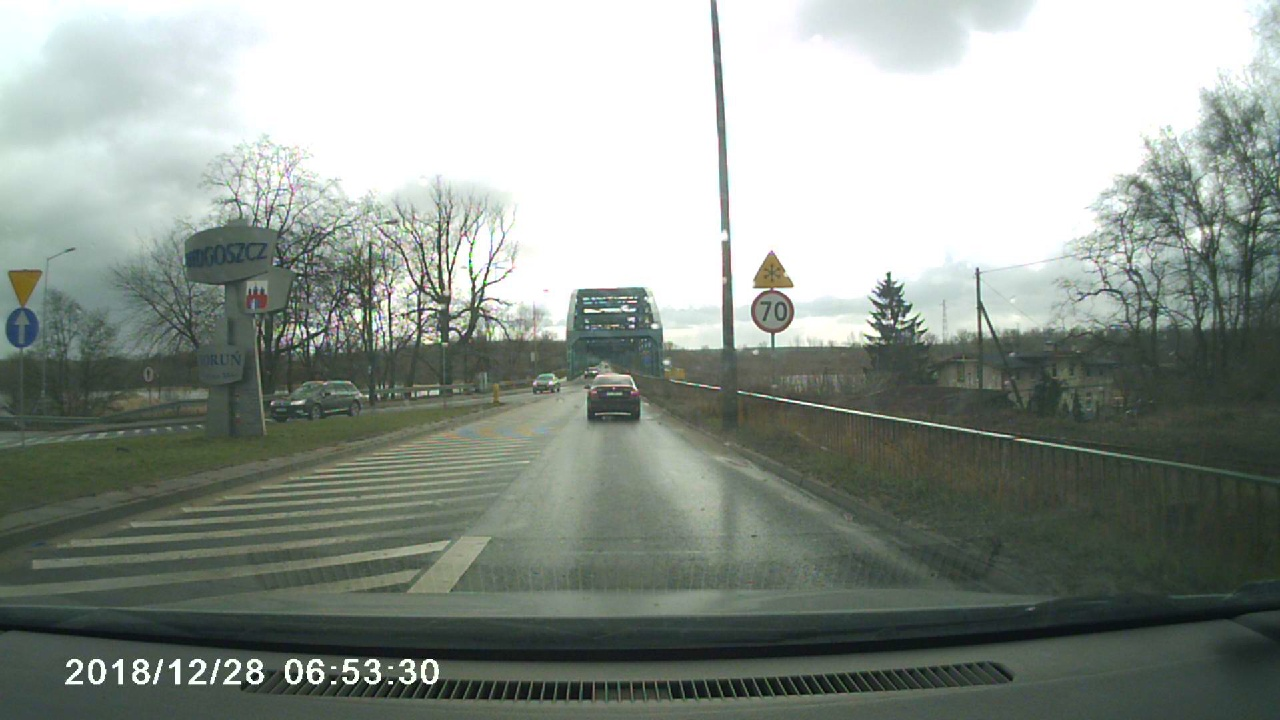A32: (745, 246, 797, 291)
A7: (5, 268, 46, 305)
B33_70: (748, 289, 800, 332)
C5: (2, 305, 44, 352)
